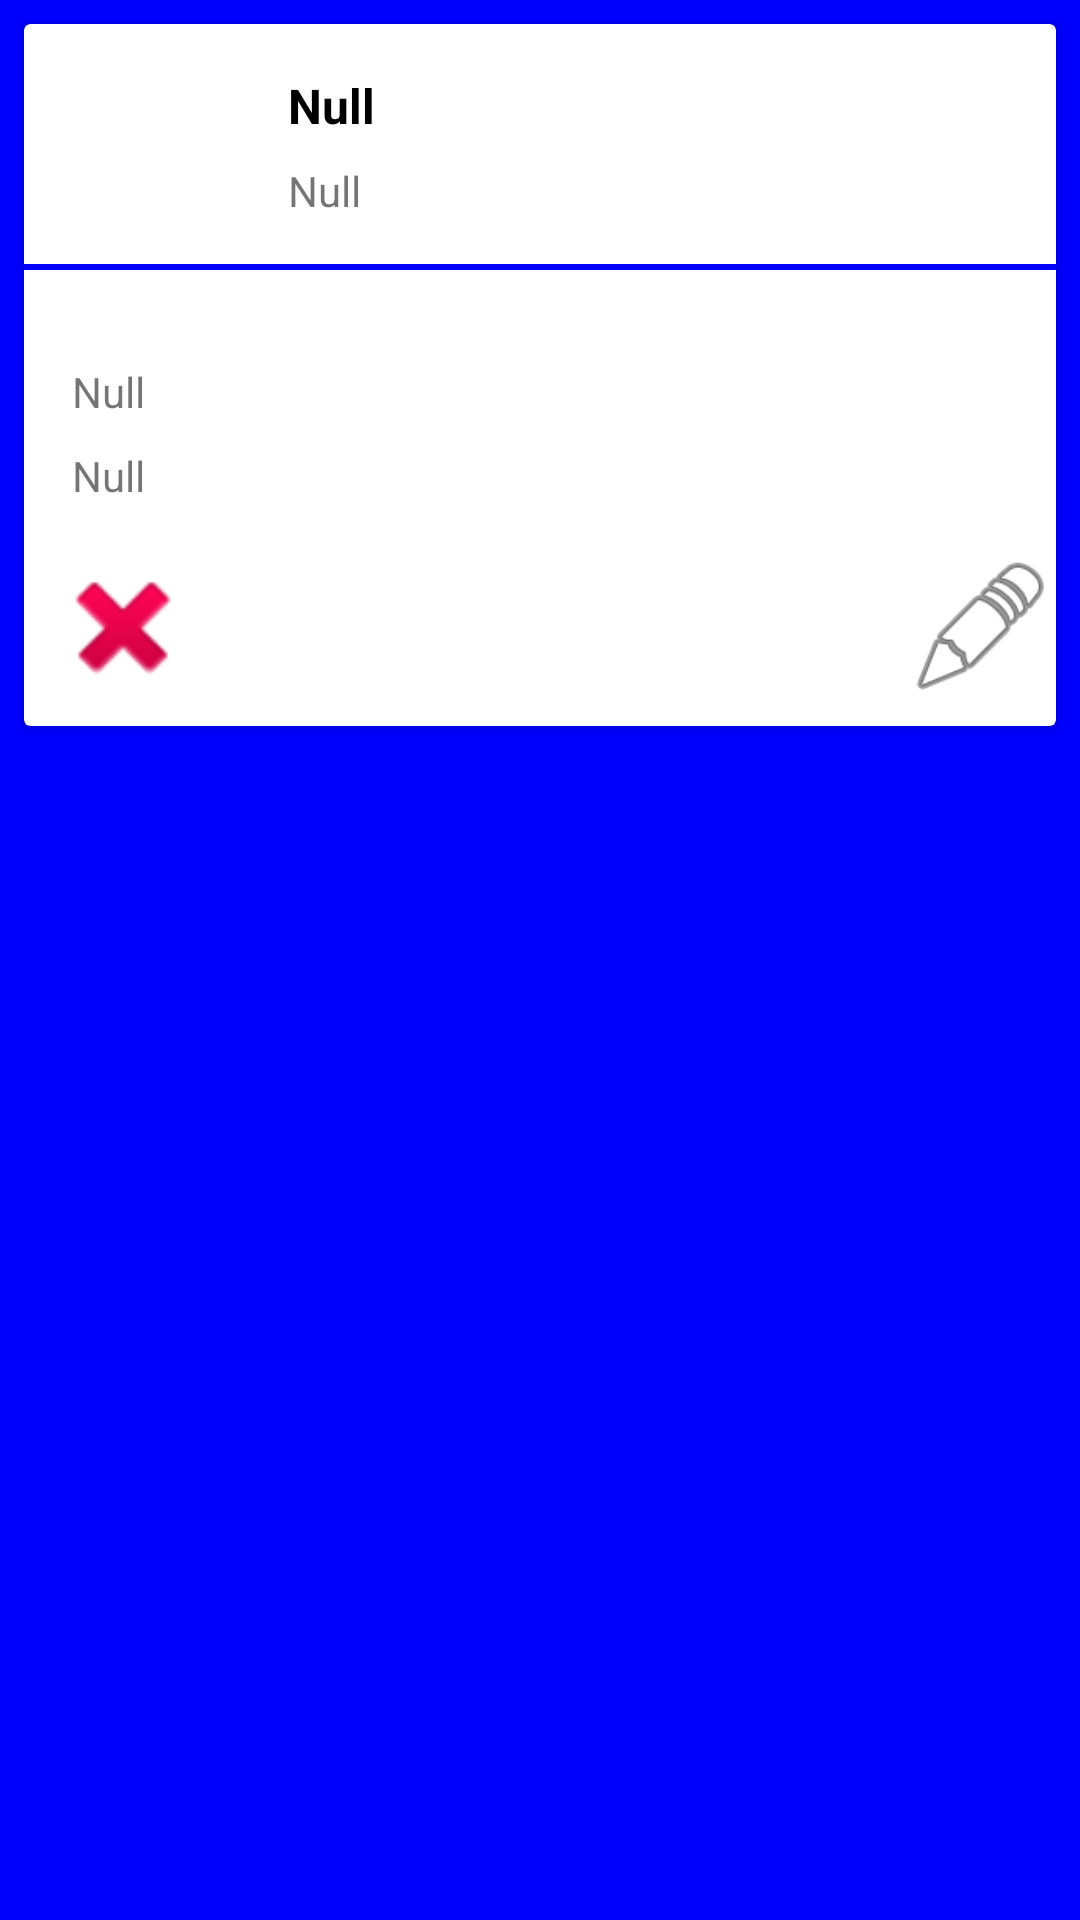

Icons on this 1080*1920 Android screen, each with its box as BBox(x1, y1, x2, y2):
delete: BBox(75, 582, 171, 674)
edit: BBox(917, 562, 1044, 690)
